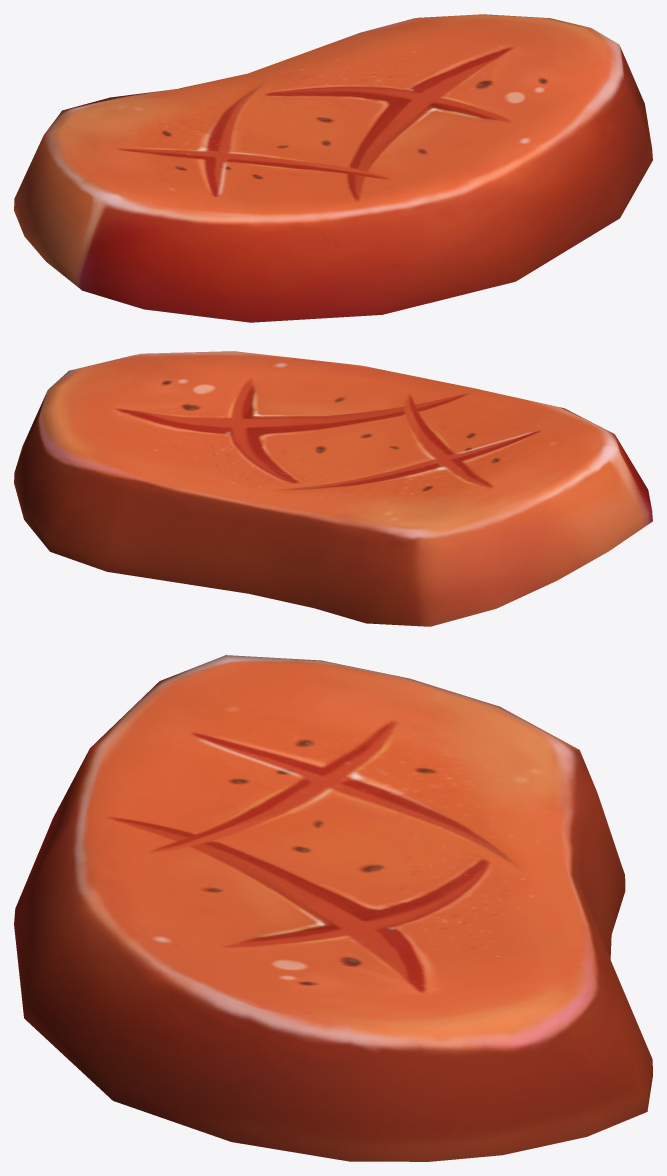
File: 宝宝巴士-切菜大师-牛排.FBX
The picture shows the model from 3 angles, top to bottom: view 1: azimuth 30°, elevation 25°; view 2: azimuth 150°, elevation 25°; view 3: azimuth 270°, elevation 25°; orthographic projection. The views are drawn at different scales.
Parts seen in each view (by area): view 1: 宝宝巴士-切菜大师-牛排; view 2: 宝宝巴士-切菜大师-牛排; view 3: 宝宝巴士-切菜大师-牛排.
Part boxes in pixels (left/top/right/bottom): 宝宝巴士-切菜大师-牛排: left=14, top=14, right=652, bottom=322; 宝宝巴士-切菜大师-牛排: left=14, top=351, right=652, bottom=626; 宝宝巴士-切菜大师-牛排: left=14, top=655, right=652, bottom=1161.
Bounding box in the file's own units: 38.01 × 7.03 × 25.38.
1 material, 1 textured.
